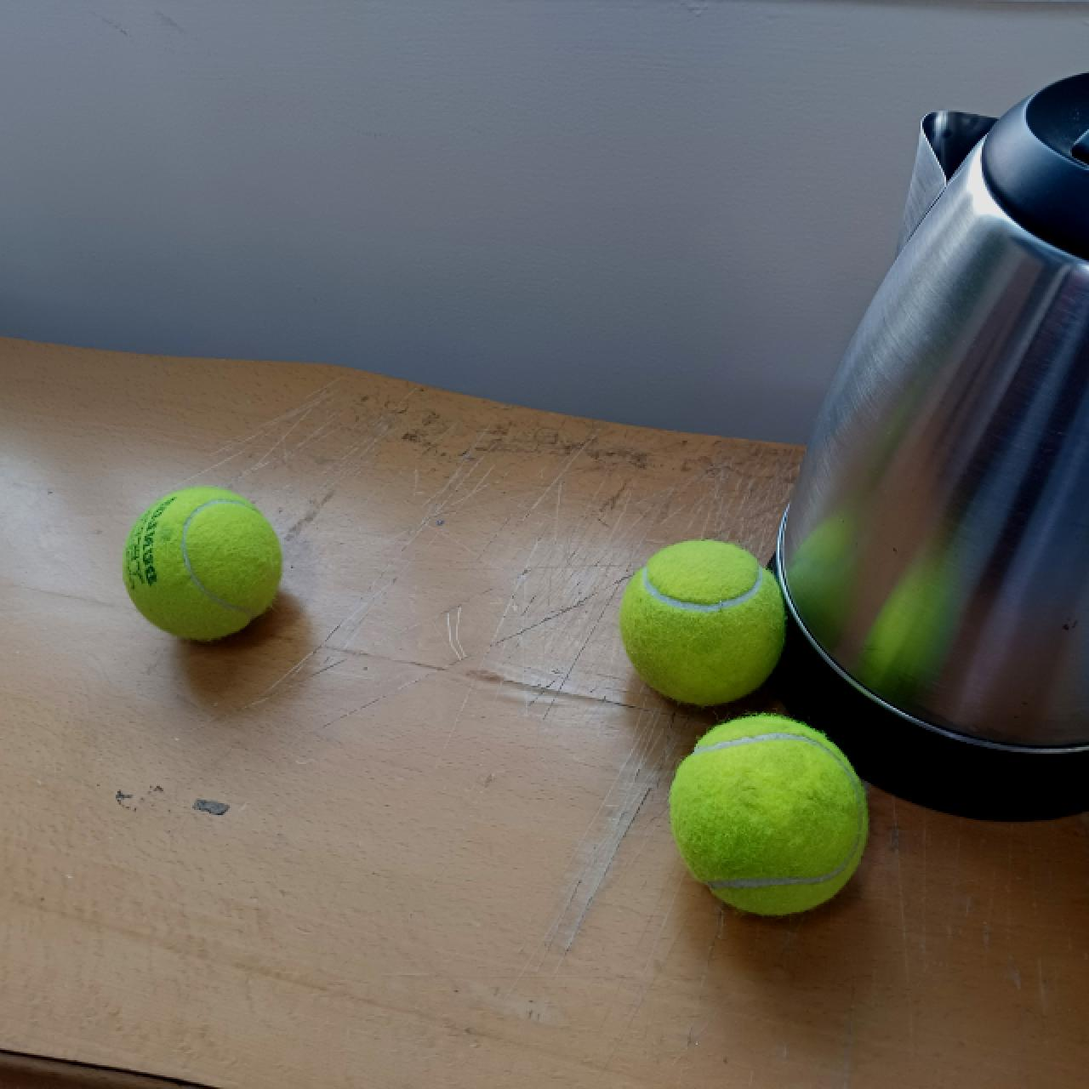tennis-ball: (665, 713, 871, 919), (617, 540, 784, 708), (122, 486, 282, 645)
